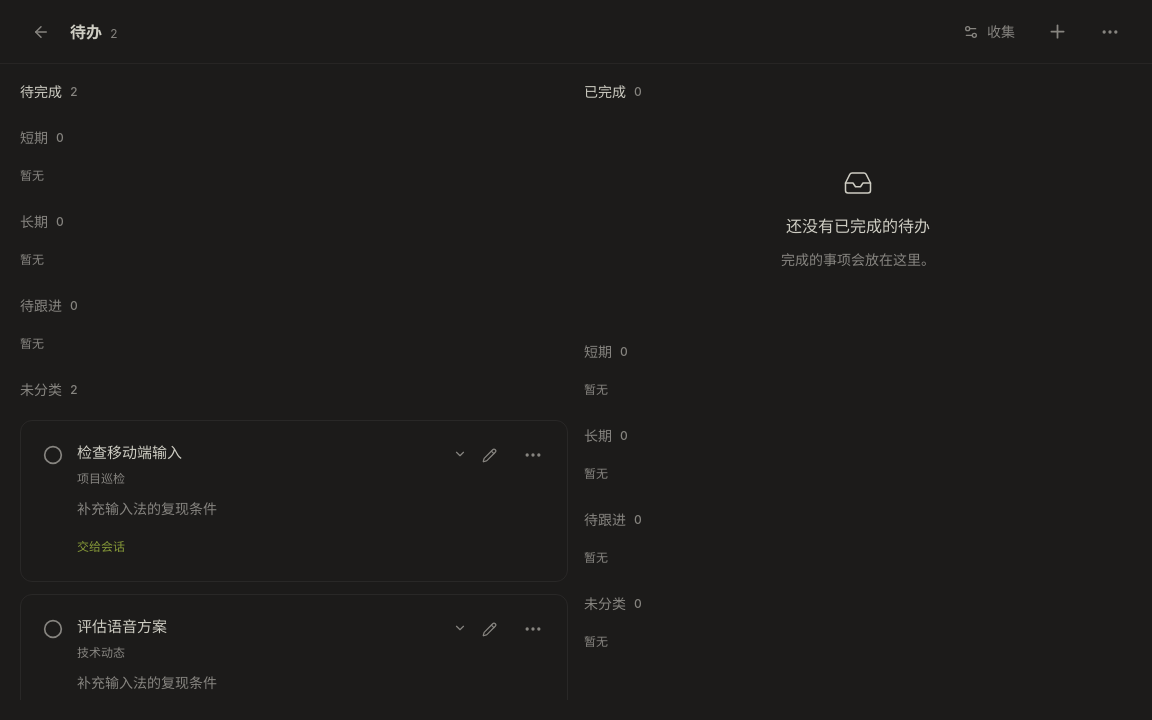
Test: shows selected weekdays and every configured time in the collection directory
The image size is (1152, 720).
Expected: the text "检查移动端输入" is shown, [77,443,182,462]
Step 1. Click the button with aria-label "管理收集方向" → (989, 32), box [951,10,1027,54]
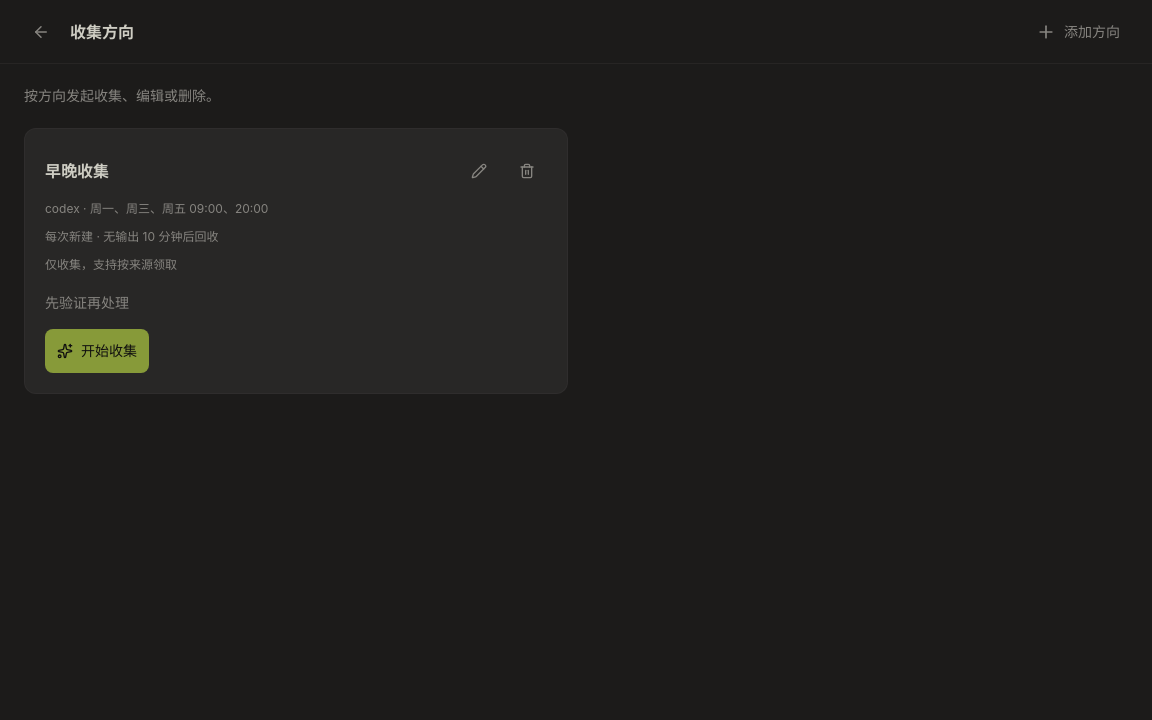
Result: the text "codex · 周一、周三、周五 09:00、20:00" is shown at [45,201,268,216]
